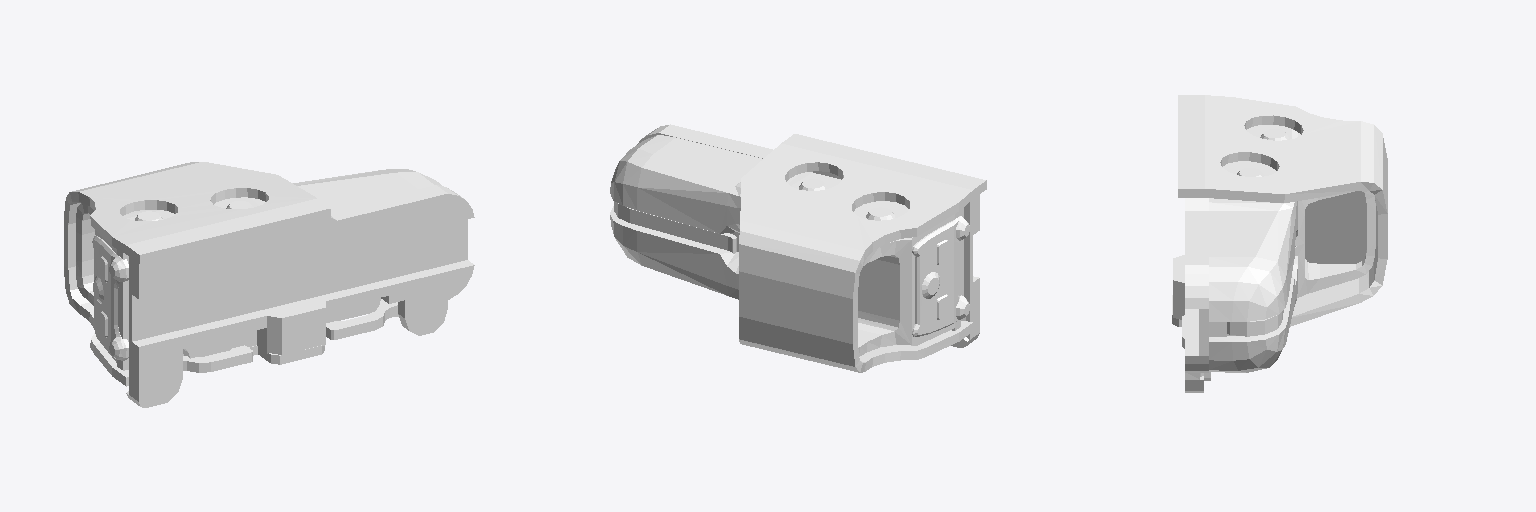
The model's file is eotech.obj.
3 views of the same model, side by side, from view 1: azimuth 30°, elevation 25°; view 2: azimuth 150°, elevation 25°; view 3: azimuth 270°, elevation 25° (orthographic).
Parts seen in each view (by area): view 1: attachmentModel; view 2: attachmentModel; view 3: attachmentModel, overlayModel.
Part boxes in pixels (left/top/right/bottom): attachmentModel: left=64, top=162, right=474, bottom=407; attachmentModel: left=610, top=124, right=986, bottom=372; attachmentModel: left=1172, top=95, right=1387, bottom=392; overlayModel: left=1305, top=191, right=1377, bottom=263.
Size of the model in its own units: 3.31 by 1.46 by 1.8.